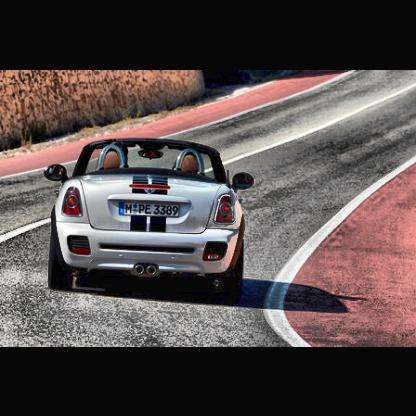MINI Cooper Roadster Convertible 2012: (47, 137, 254, 293)
